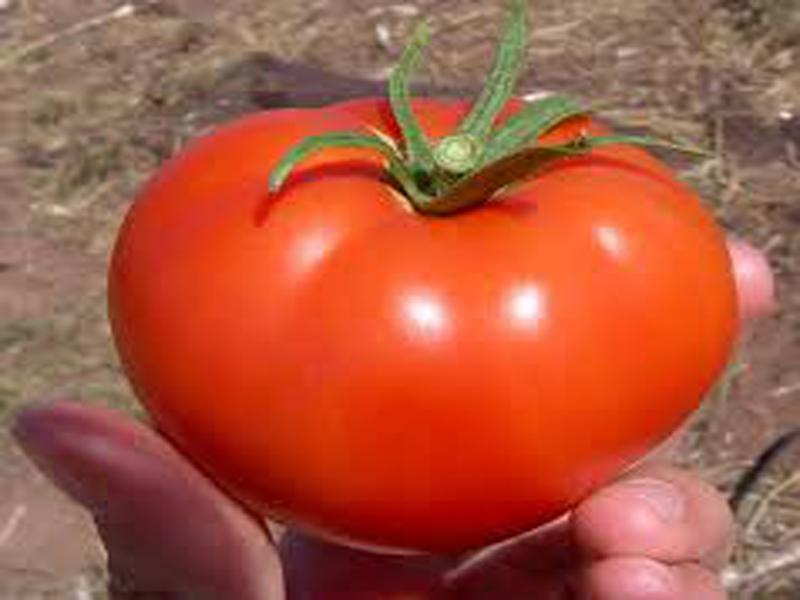Tomato: (108, 97, 736, 549)
